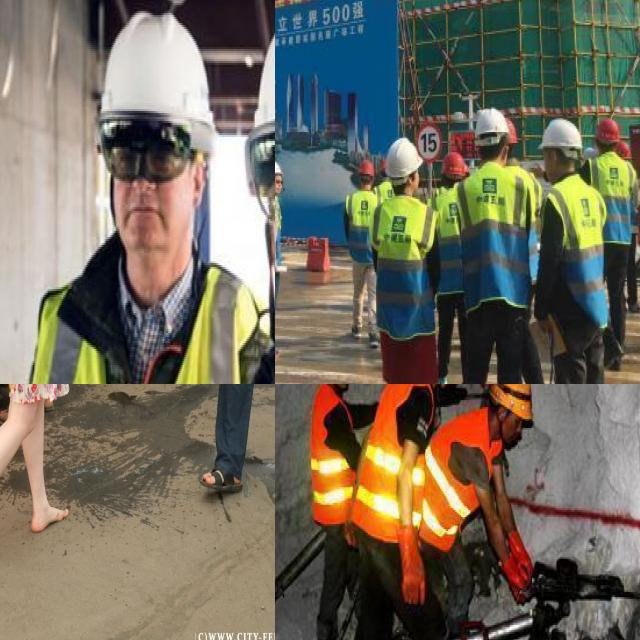Barefoots: (31, 506, 69, 533)
face_nomask: (100, 131, 196, 261), (497, 409, 526, 452), (330, 384, 354, 393)
glasses: (96, 114, 198, 188), (246, 121, 275, 227)
hand_glove: (396, 522, 427, 608), (506, 529, 542, 578), (500, 559, 531, 602)
head_helmet: (97, 11, 215, 127), (381, 136, 424, 178), (539, 118, 583, 151), (491, 384, 536, 415), (474, 104, 509, 137), (592, 118, 625, 140), (440, 149, 467, 174), (358, 158, 376, 176), (619, 144, 634, 158), (275, 158, 283, 177)
person: (8, 11, 251, 384), (361, 384, 482, 640), (427, 384, 557, 612), (199, 0, 275, 384), (540, 116, 611, 384), (369, 136, 443, 384), (466, 104, 531, 384), (307, 384, 359, 640), (588, 110, 638, 347), (437, 152, 471, 384), (342, 146, 378, 345)
shoes: (346, 317, 364, 343), (275, 340, 282, 362)
vest: (40, 261, 239, 384), (417, 414, 512, 548), (541, 182, 607, 342), (364, 384, 435, 531), (375, 198, 440, 352), (458, 168, 528, 303), (302, 384, 362, 523), (585, 149, 639, 244), (434, 182, 470, 300), (347, 188, 378, 266), (275, 191, 283, 269)
